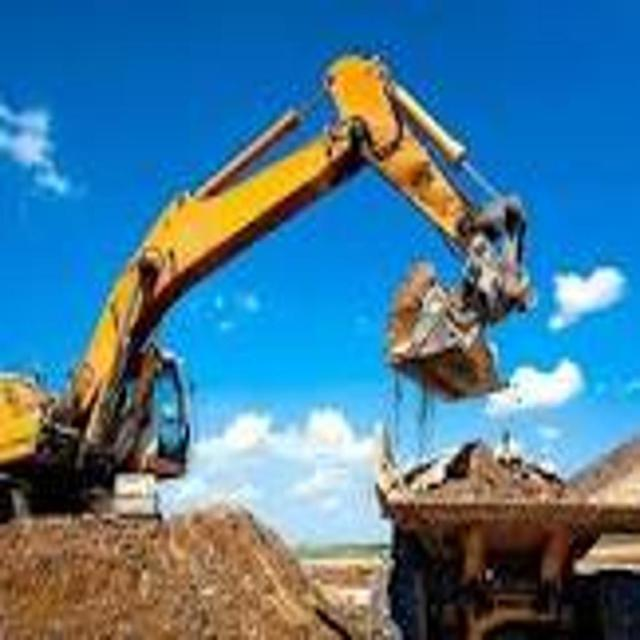dump_truck: (366, 403, 640, 640)
